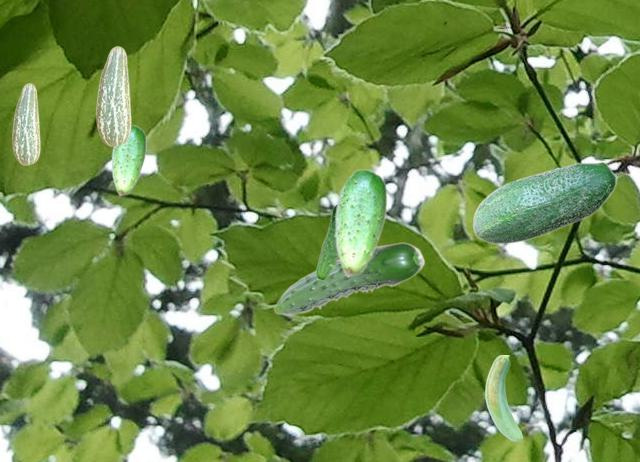cucumber: (472, 161, 617, 243), (273, 242, 424, 314), (334, 168, 386, 276), (96, 46, 130, 145), (485, 355, 521, 440), (111, 124, 145, 195), (12, 83, 39, 164), (315, 205, 337, 279)
